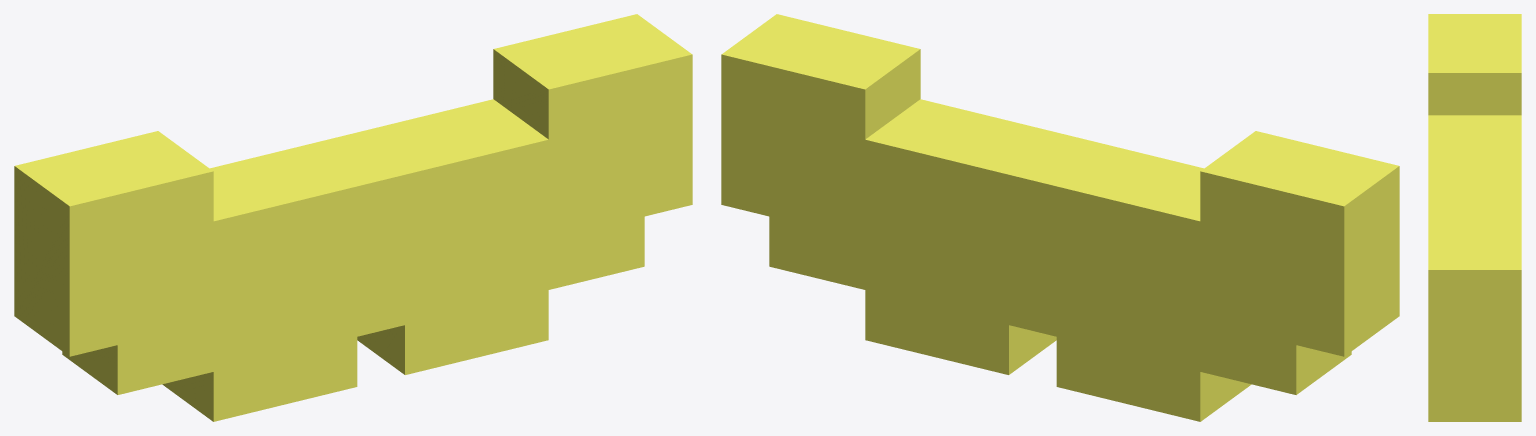
The model's file is pacmand4.fbx.
3 renders of one model, left to right at view 1: azimuth 30°, elevation 25°; view 2: azimuth 150°, elevation 25°; view 3: azimuth 270°, elevation 25°, orthographic. The views are drawn at different scales.
Visible parts, largest first — view 1: pacmand4; view 2: pacmand4; view 3: pacmand4.
Part boxes in pixels (left/top/right/bottom): pacmand4: left=14, top=14, right=692, bottom=421; pacmand4: left=721, top=14, right=1399, bottom=421; pacmand4: left=1428, top=14, right=1521, bottom=421.
Size of the model in its own units: 130 by 50 by 20.
